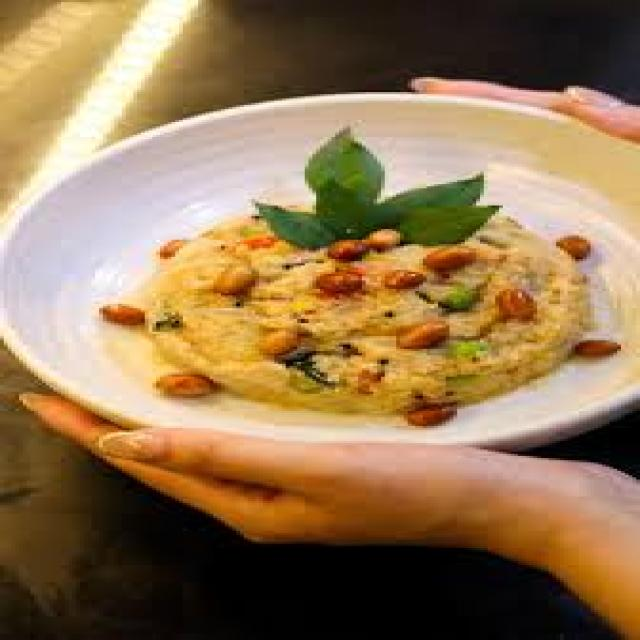POHA: (91, 210, 590, 415)
